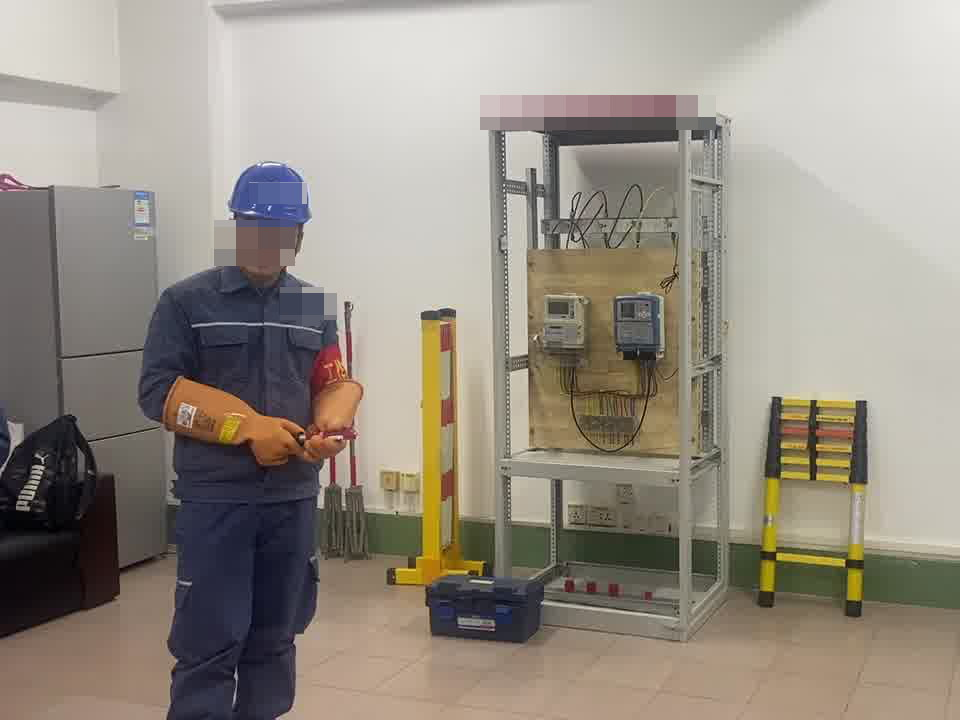badge: (305, 343, 352, 388)
downsuit: (155, 499, 323, 720)
halt: (223, 162, 315, 283)
longglove: (156, 371, 305, 468), (302, 376, 365, 472)
person: (127, 159, 365, 720)
testrod: (284, 422, 366, 443)
upsuit: (135, 261, 355, 509)
